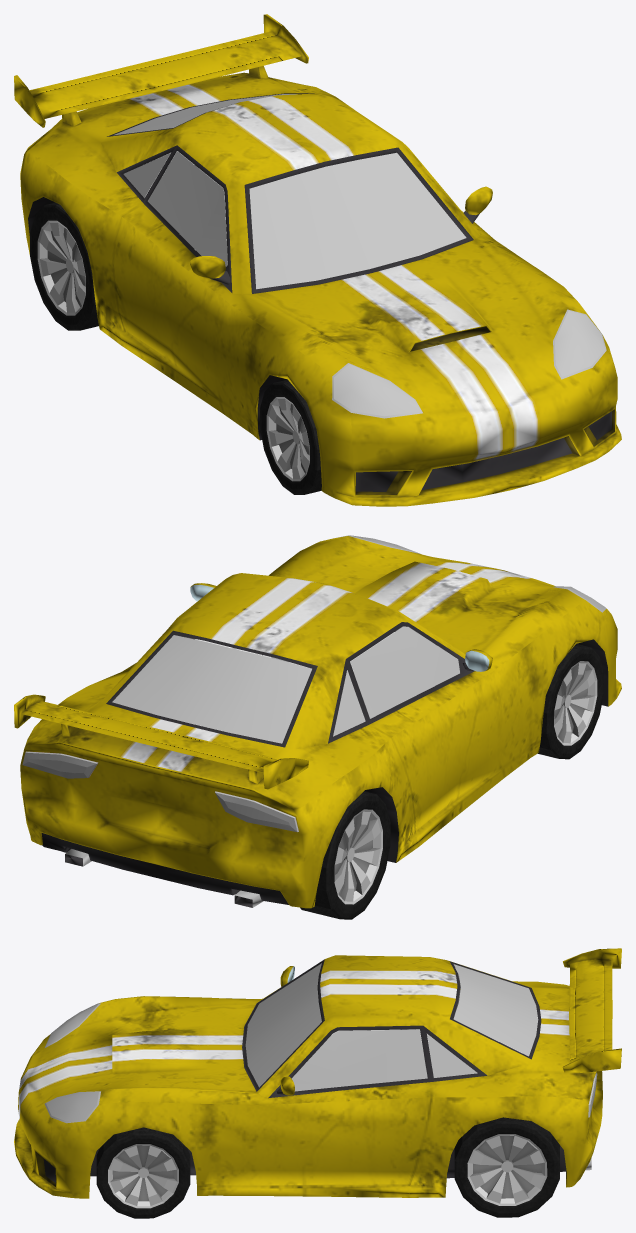
The model's file is superCar.fbx.
The picture shows the model from 3 angles, top to bottom: view 1: azimuth 30°, elevation 25°; view 2: azimuth 150°, elevation 25°; view 3: azimuth 270°, elevation 25°; orthographic projection. The views are drawn at different scales.
Visible parts, largest first — view 1: V_car, Glass, WheelRR, WheelFR; view 2: V_car, Glass, WheelRR, WheelFR; view 3: V_car, Glass, WheelRL, WheelFL.
Part boxes in pixels (x1=…): V_car: x1=14, y1=14, x2=621, y2=506; Glass: x1=113, y1=94, x2=606, y2=418; WheelRR: x1=30, y1=202, x2=98, y2=330; WheelFR: x1=260, y1=379, x2=321, y2=494; V_car: x1=14, y1=536, x2=621, y2=908; Glass: x1=22, y1=535, x2=606, y2=832; WheelRR: x1=300, y1=791, x2=390, y2=919; WheelFR: x1=538, y1=644, x2=603, y2=759; V_car: x1=14, y1=948, x2=621, y2=1198; Glass: x1=44, y1=963, x2=597, y2=1123; WheelRL: x1=454, y1=1117, x2=559, y2=1217; WheelFL: x1=96, y1=1127, x2=190, y2=1218.
Bounding box in the file's own units: 1.93 × 1.33 × 4.07.
